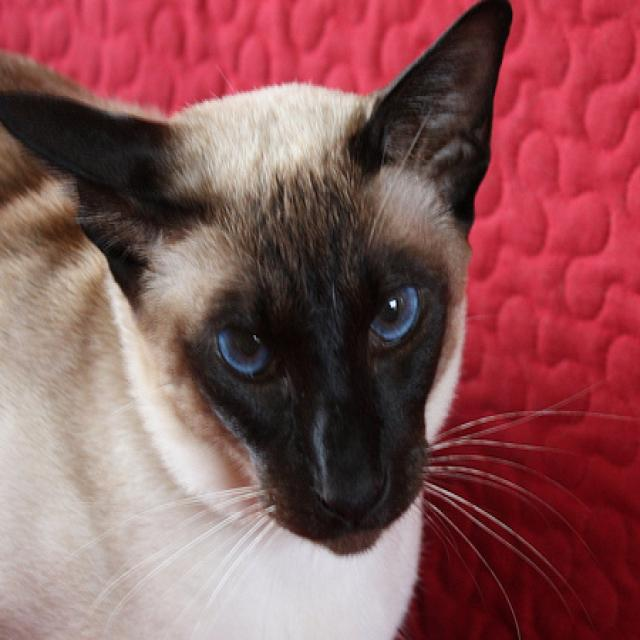Siamese: (0, 0, 519, 640)
